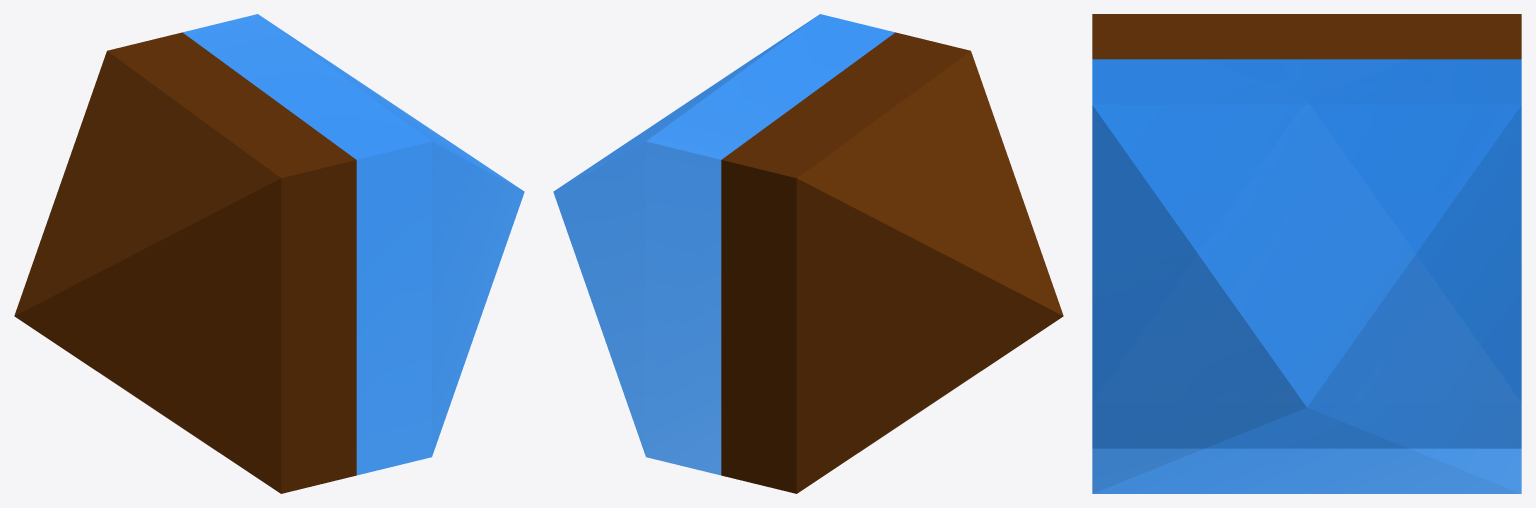
File: speedButton.glb
The picture shows the model from 3 angles, left to right: view 1: azimuth 30°, elevation 25°; view 2: azimuth 150°, elevation 25°; view 3: azimuth 270°, elevation 25°; orthographic projection. The views are drawn at different scales.
Parts seen in each view (by area): view 1: velocity; view 2: velocity; view 3: velocity.
Boxes of the visible parts, <box> form: velocity: <box>14,14,524,493</box>; velocity: <box>553,14,1063,493</box>; velocity: <box>1092,14,1521,493</box>.
Size of what is drawn, in the model's own units: 0.08 by 0.0473 by 0.0473.
Materials: 2 (2 with a texture image).
